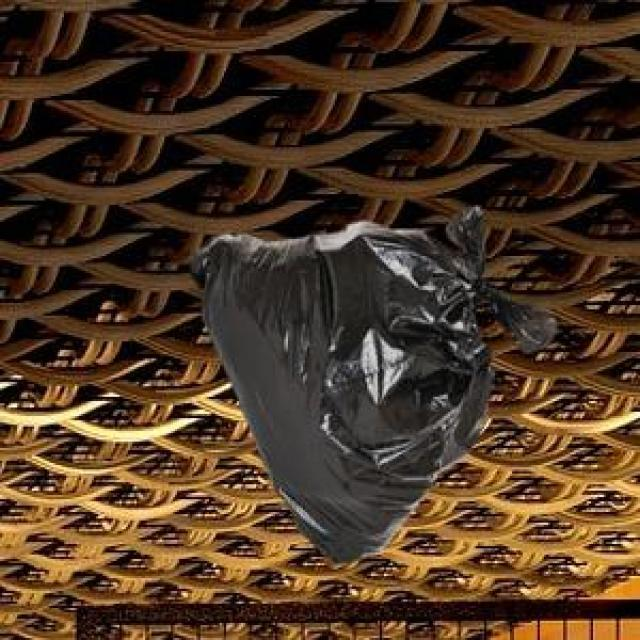Vinyl: (194, 206, 556, 563)
